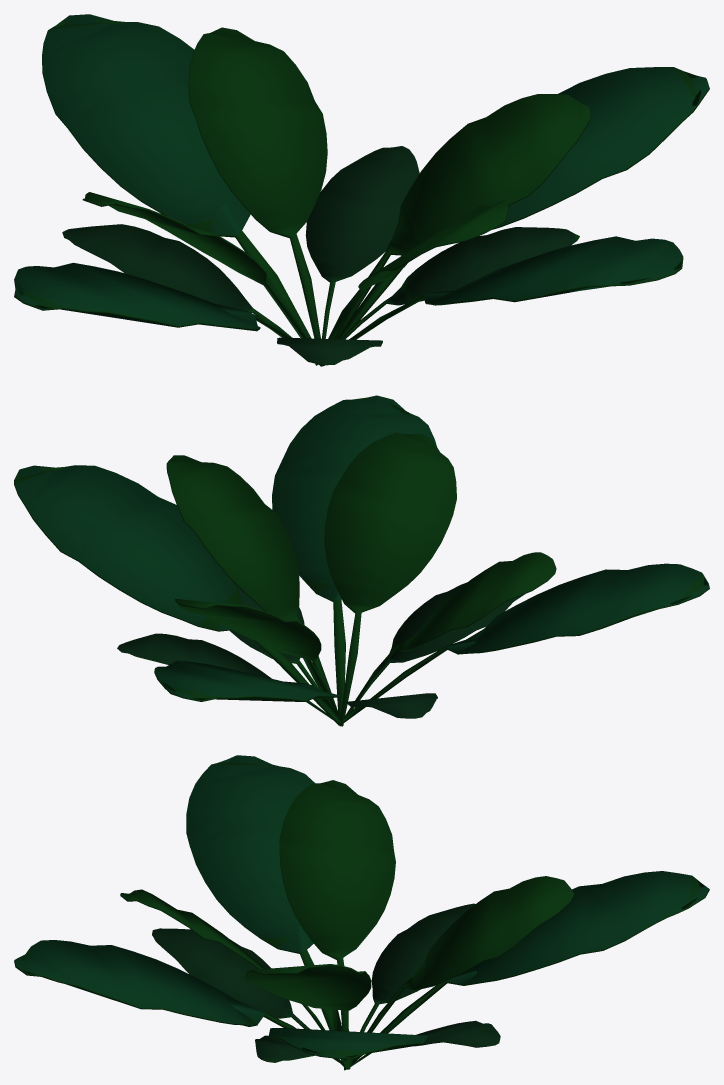
Rendered from Plant_large.fbx.
3 views of the same model, one above another, from view 1: azimuth 30°, elevation 25°; view 2: azimuth 150°, elevation 25°; view 3: azimuth 270°, elevation 25° (orthographic). The views are drawn at different scales.
Visible parts, largest first — view 1: Cylinder.001; view 2: Cylinder.001; view 3: Cylinder.001.
Part boxes in pixels (x1=…): Cylinder.001: x1=14, y1=14, x2=709, y2=366; Cylinder.001: x1=14, y1=395, x2=709, y2=726; Cylinder.001: x1=14, y1=755, x2=709, y2=1070.
Size of the model in its own units: 88.47 by 26.53 by 85.95.
